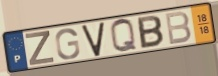B: (163, 10, 193, 46), (136, 14, 165, 50)
G: (54, 27, 82, 61)
Q: (109, 18, 139, 55)
V: (80, 20, 106, 58)
Z: (24, 29, 57, 67)
